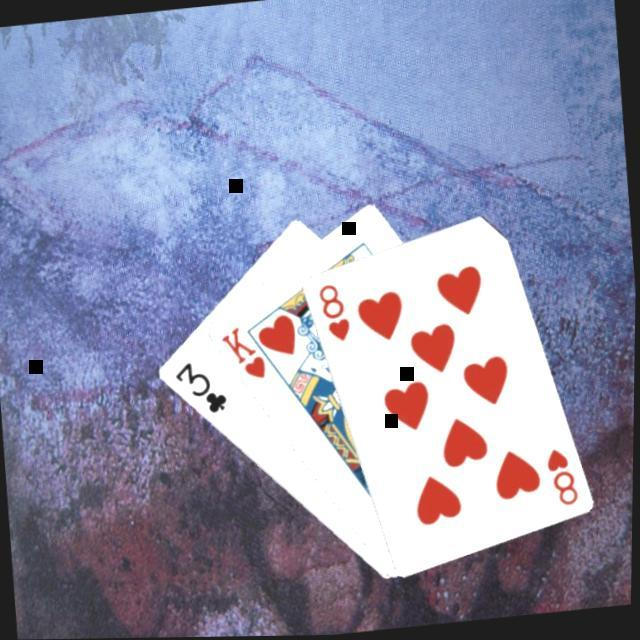3C: (168, 354, 232, 420)
8H: (312, 278, 354, 346), (541, 444, 582, 511)
KH: (216, 319, 270, 386)
